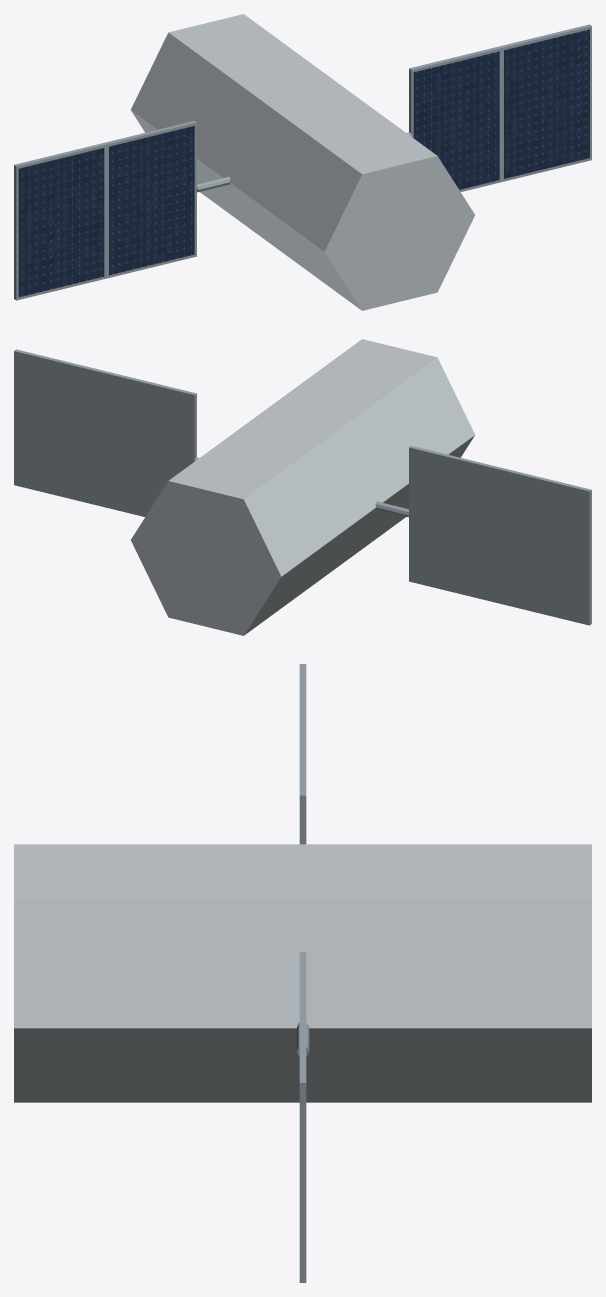
File: ref-cobe-20322.glb
The picture shows the model from 3 angles, top to bottom: view 1: azimuth 30°, elevation 25°; view 2: azimuth 150°, elevation 25°; view 3: azimuth 270°, elevation 25°; orthographic projection. The views are drawn at different scales.
Parts seen in each view (by area): view 1: Spacecraft body, Photovoltaic laminates (×4), Array frame (×4); view 2: Spacecraft body, Array frame (×4); view 3: Spacecraft body, Array frame (×2).
Part boxes in pixels (x1=…): Spacecraft body: x1=131, y1=14, x2=474, y2=310; Photovoltaic laminates (×4): x1=18, y1=29, x2=589, y2=297; Array frame (×4): x1=14, y1=24, x2=591, y2=300; Spacecraft body: x1=131, y1=339, x2=474, y2=635; Array frame (×4): x1=14, y1=349, x2=591, y2=625; Spacecraft body: x1=14, y1=844, x2=591, y2=1102; Array frame (×2): x1=299, y1=730, x2=306, y2=1282.
Size of the model in its own units: 8.4 by 1.91 by 4.9.
3 materials, 1 textured.
